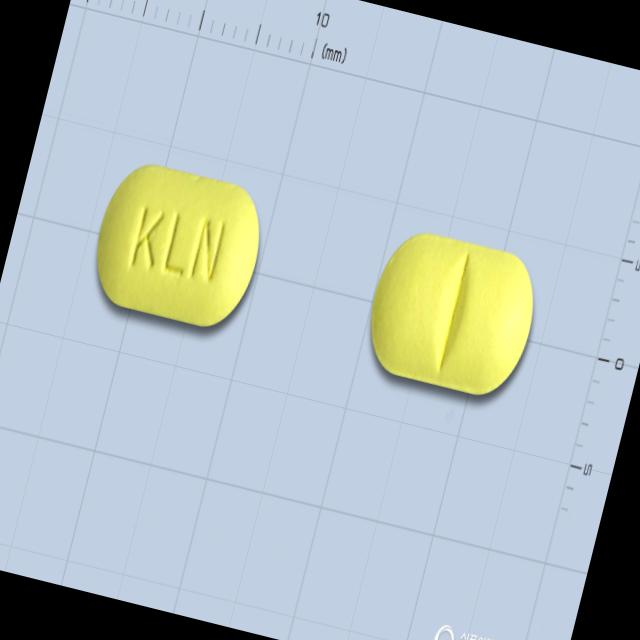Clarith: (78, 151, 275, 342), (354, 222, 549, 410)
